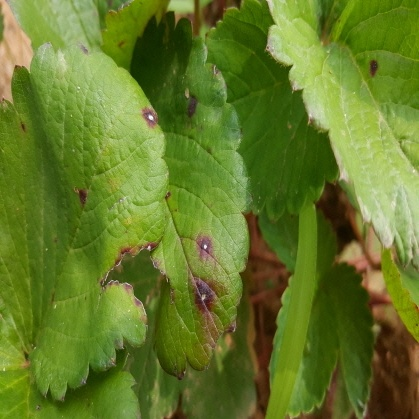Leaf_Spot: (104, 38, 418, 403), (150, 10, 289, 381)
